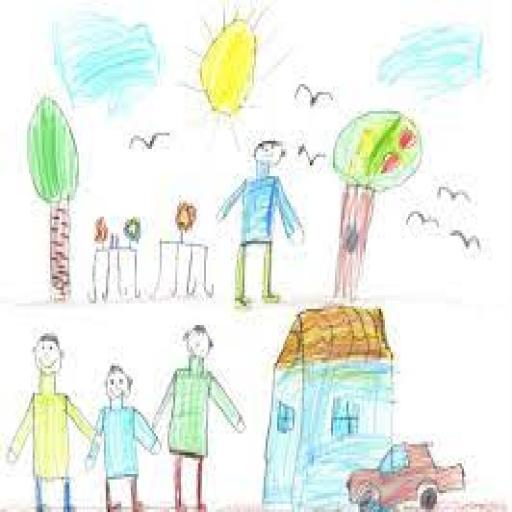person: (149, 316, 251, 512), (212, 132, 310, 315), (4, 322, 98, 508), (82, 361, 162, 512)
